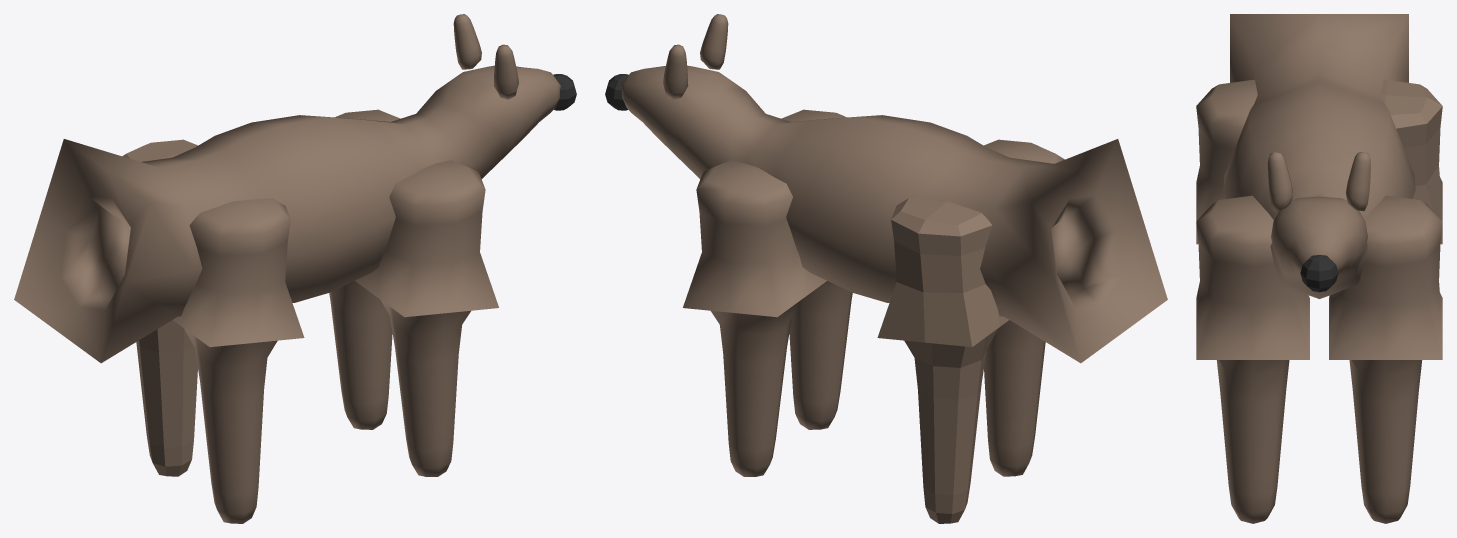
File: bear.glb
3 views of the same model, side by side, from view 1: azimuth 30°, elevation 25°; view 2: azimuth 150°, elevation 25°; view 3: azimuth 270°, elevation 25° (orthographic). The views are drawn at different scales.
Visible parts, largest first — view 1: Bear, Leg2, Leg0, Leg3, Leg1; view 2: Bear, Leg3, Leg1, Leg2, Leg0; view 3: Bear, Leg1, Leg0, Leg2, Leg3, Nose.
Boxes of the visible parts, x1,y1,x2,y2 form: Bear: (14, 14, 560, 363); Leg2: (173, 198, 304, 523); Leg0: (355, 160, 498, 476); Leg3: (122, 139, 197, 476); Leg1: (329, 109, 400, 429); Bear: (621, 14, 1167, 363); Leg3: (877, 198, 1008, 523); Leg1: (683, 160, 826, 476); Leg2: (984, 139, 1064, 476); Leg0: (781, 109, 852, 429); Bear: (1223, 14, 1415, 298); Leg1: (1329, 195, 1442, 523); Leg0: (1196, 195, 1309, 523); Leg2: (1196, 80, 1257, 244); Leg3: (1381, 80, 1442, 244); Nose: (1300, 255, 1338, 292).
Bounding box in the file's own units: 1.73 × 1.28 × 0.6949.
